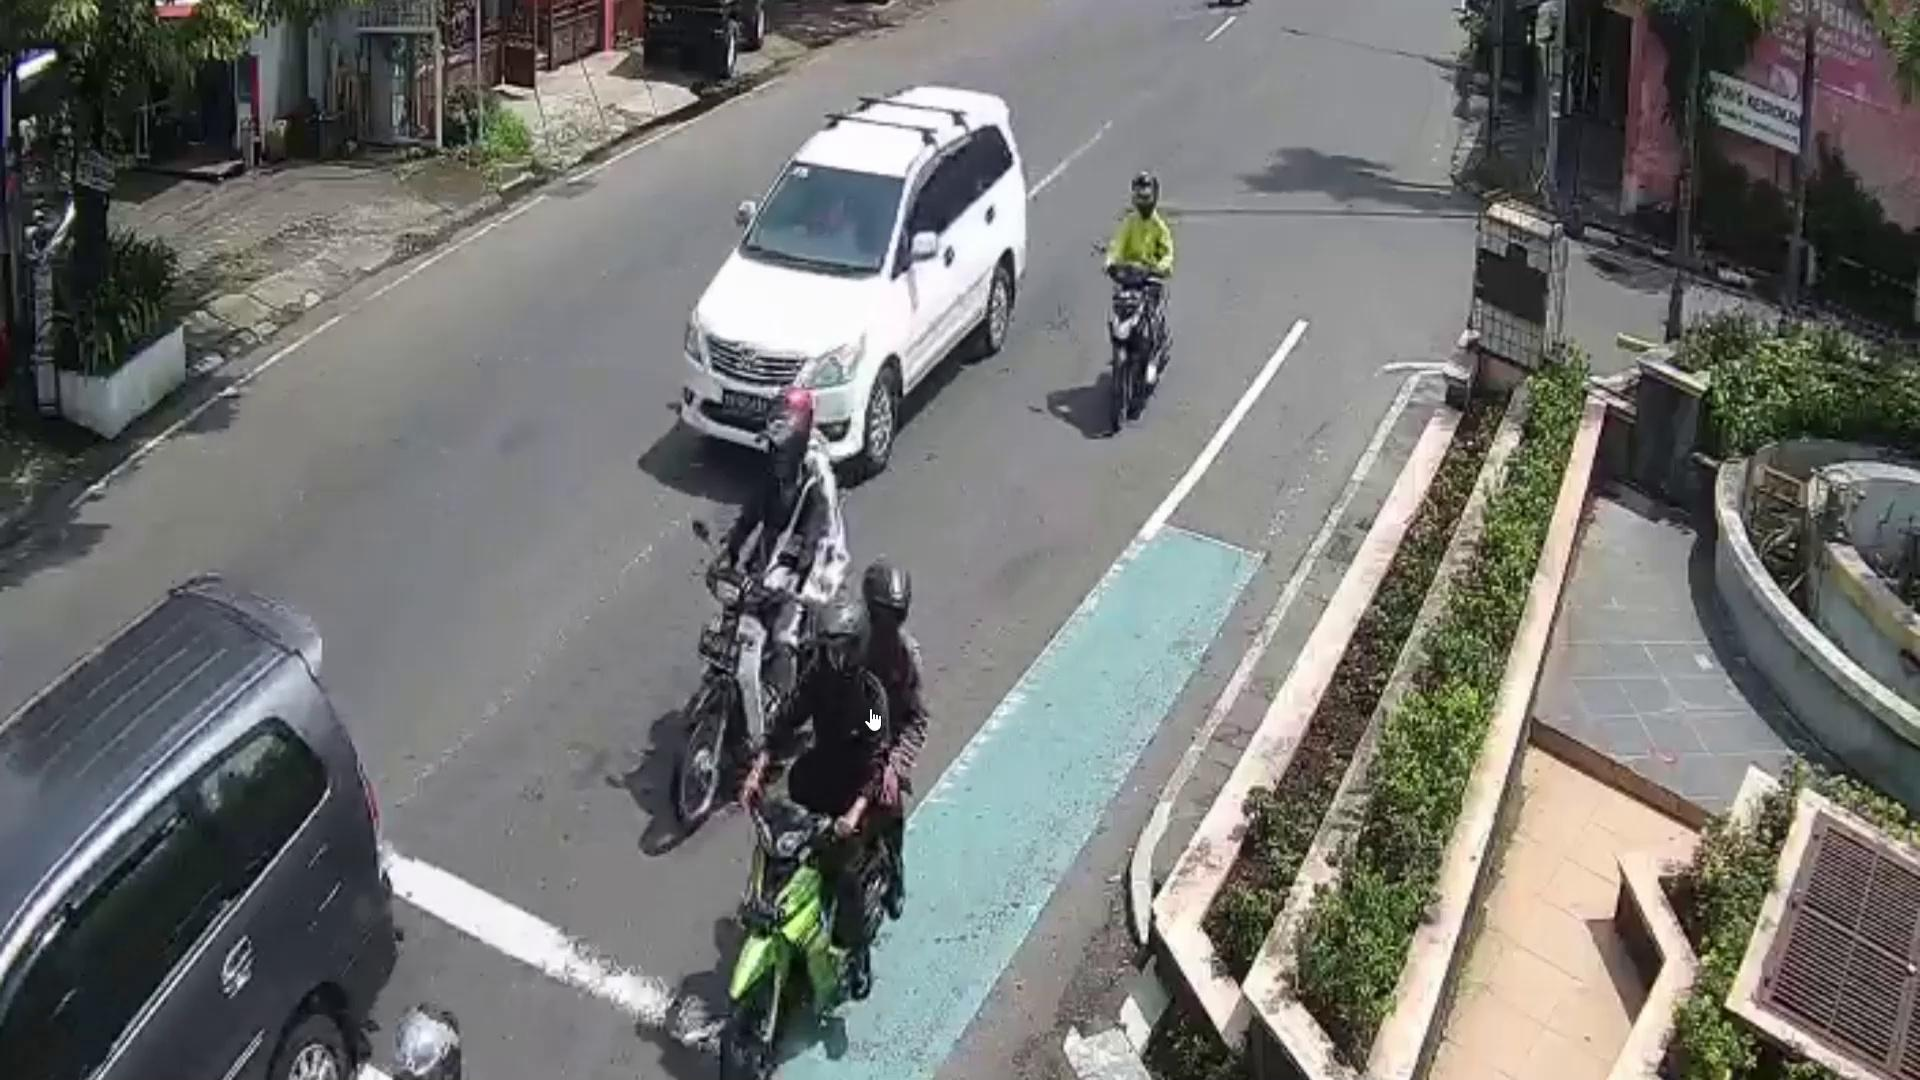car: (0, 574, 401, 1080), (679, 84, 1029, 472)
motorbike: (723, 796, 853, 1080), (669, 563, 758, 820), (1102, 255, 1170, 435)
